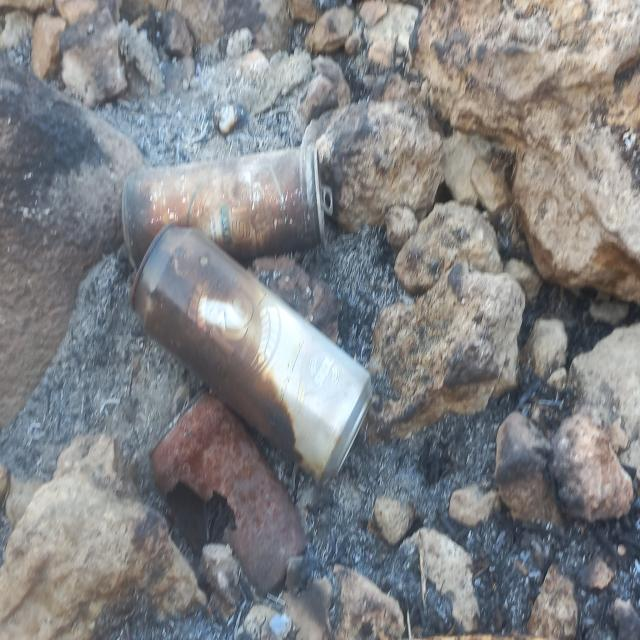Can: (129, 225, 377, 489), (146, 387, 314, 613), (124, 146, 335, 264)
